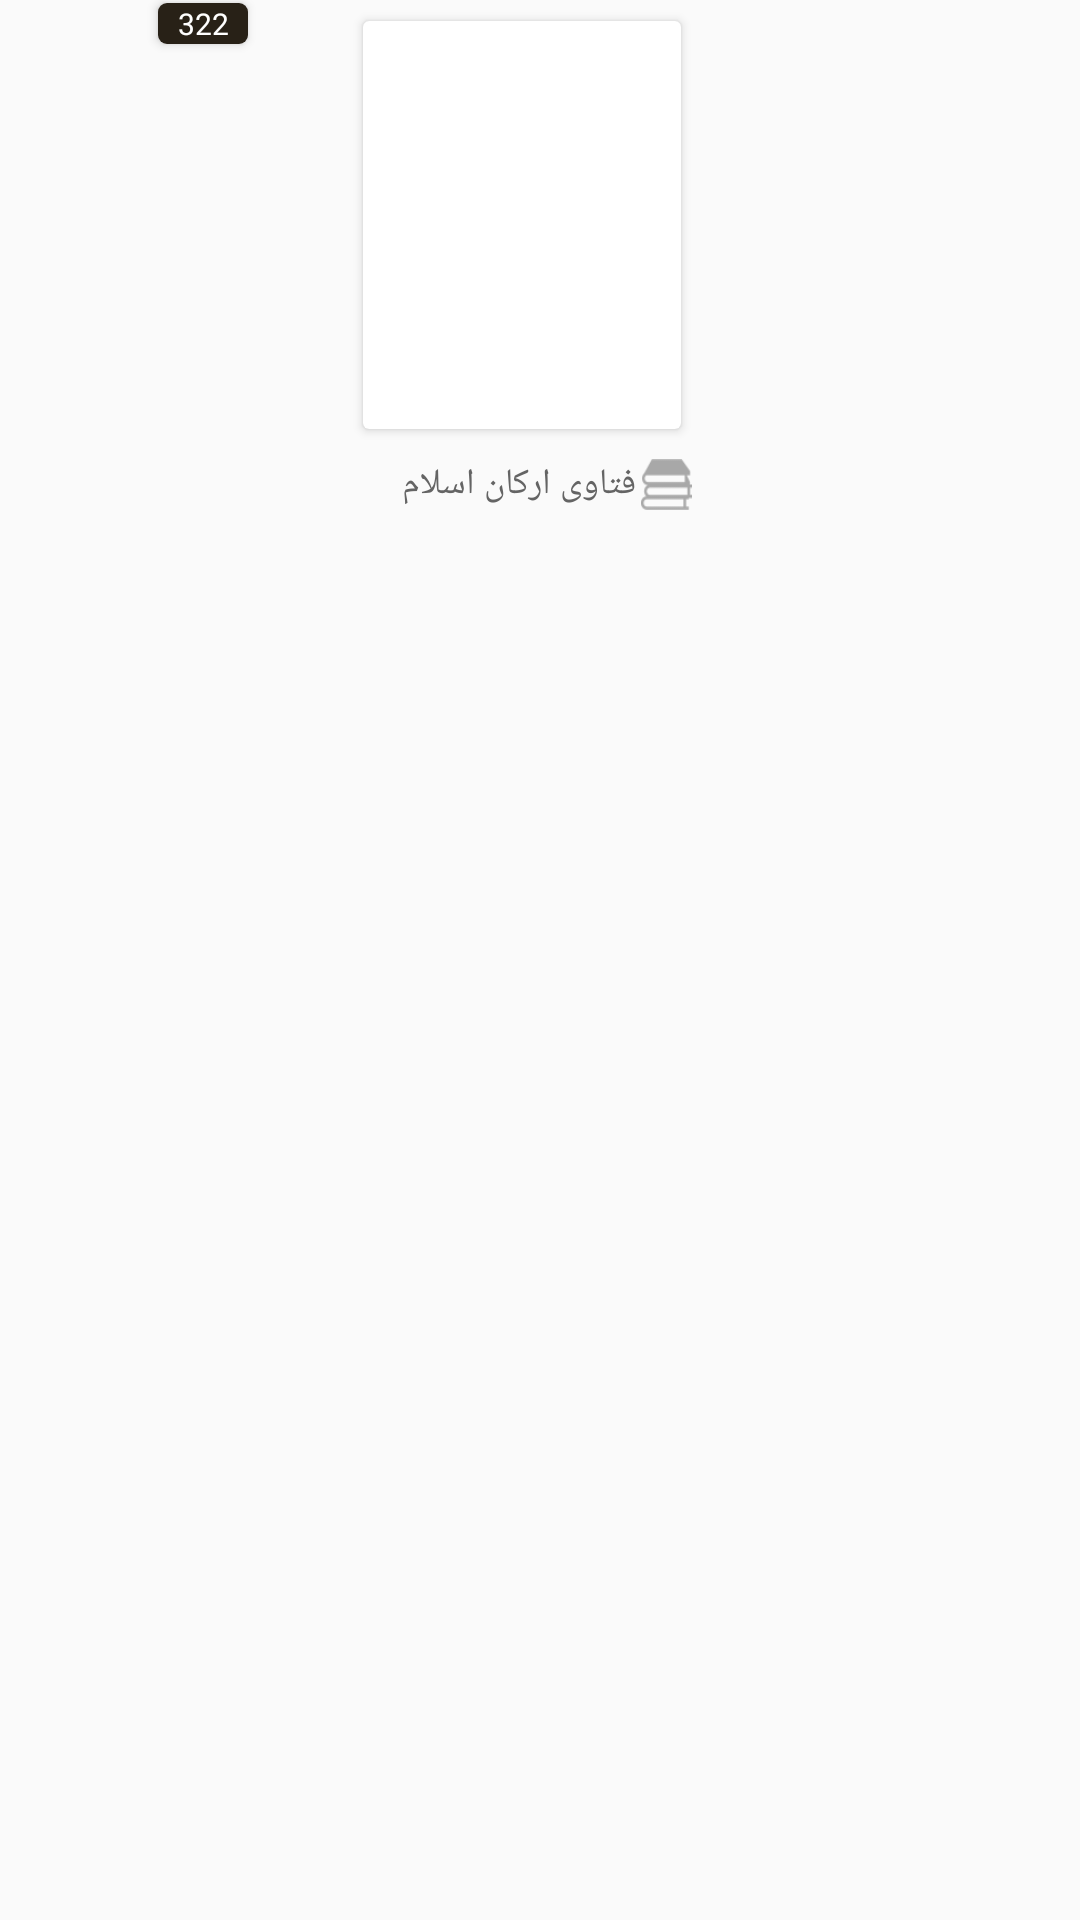

Named icons in this screenshot (1080×1920) and their centers, (x=x, y=y):
books stack: (x=666, y=484)
